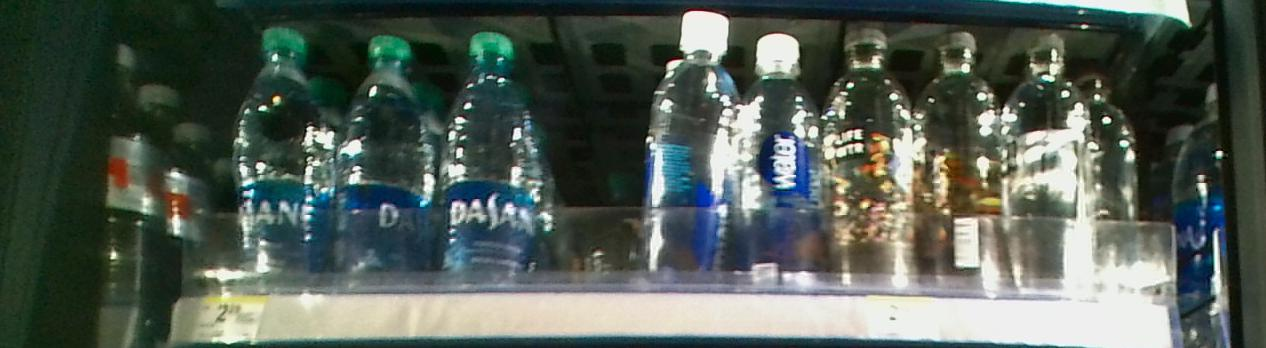bottle: (437, 23, 537, 294), (233, 23, 332, 294), (338, 23, 432, 294), (829, 22, 918, 294), (651, 11, 741, 278), (924, 20, 1005, 295), (1011, 31, 1093, 290), (746, 27, 824, 285)
